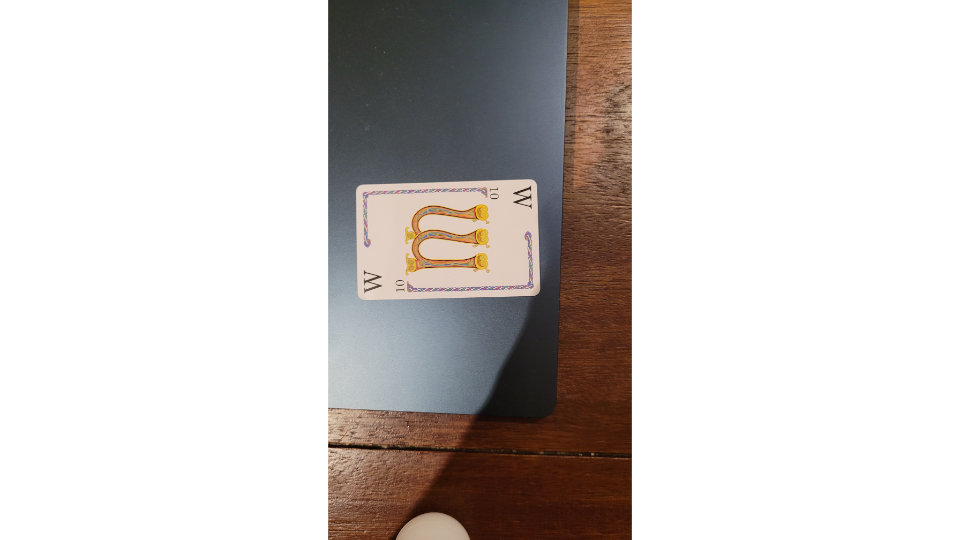W: (351, 177, 544, 302)
